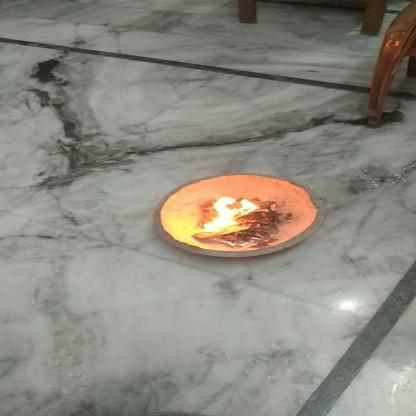fire: (200, 193, 260, 236)
